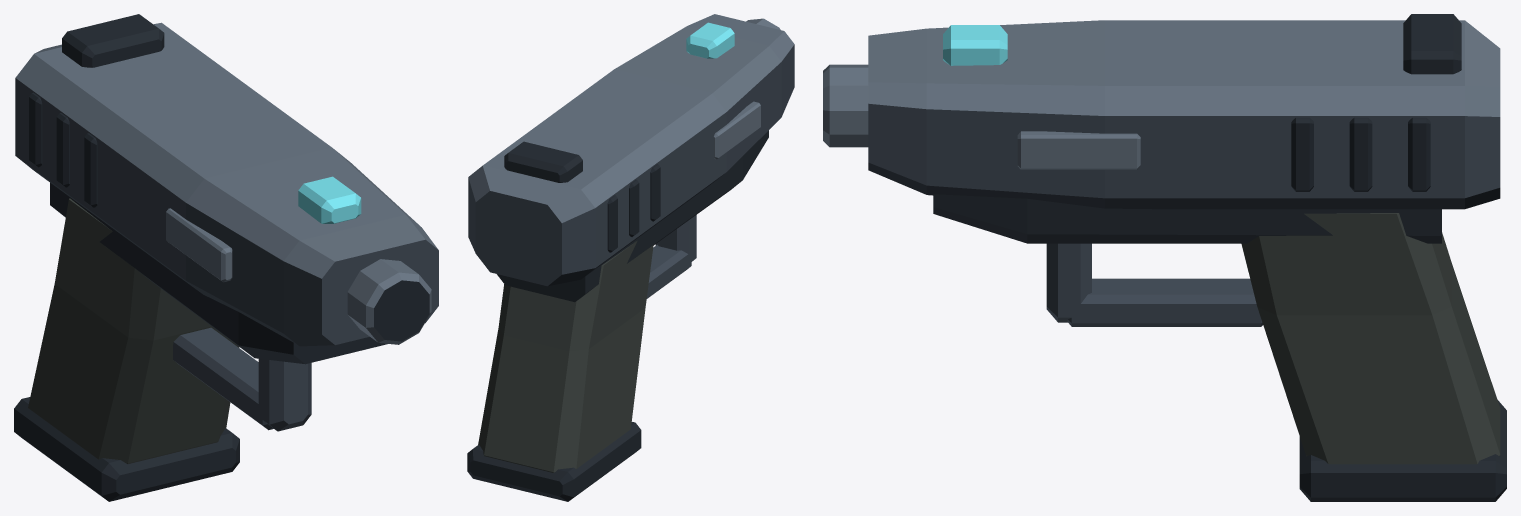
File: EnemyPistol.obj
The picture shows the model from 3 angles, left to right: view 1: azimuth 30°, elevation 25°; view 2: azimuth 150°, elevation 25°; view 3: azimuth 270°, elevation 25°; orthographic projection. The views are drawn at different scales.
Visible parts, largest first — view 1: EnemyPistol; view 2: EnemyPistol; view 3: EnemyPistol.
Part boxes in pixels (box(x1,y1,x2,y2)): EnemyPistol: box(14, 14, 438, 501); EnemyPistol: box(467, 14, 794, 501); EnemyPistol: box(823, 14, 1506, 501).
Size of the model in its own units: 0.655 by 1.49 by 2.11.
1 material, 1 textured.
